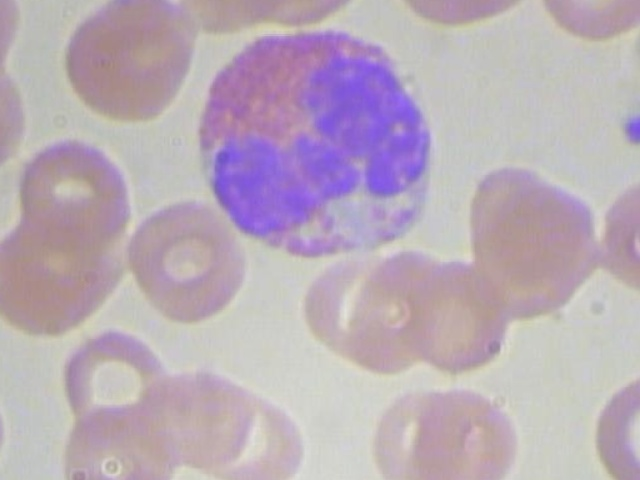Platelets: (619, 100, 640, 151)
RBC: (54, 0, 201, 128), (122, 197, 249, 325), (396, 253, 521, 376), (405, 380, 532, 480), (137, 366, 254, 466), (55, 393, 182, 480), (362, 377, 469, 480), (590, 170, 640, 309), (595, 358, 640, 480), (540, 0, 640, 46)
WBC: (190, 24, 438, 272)
